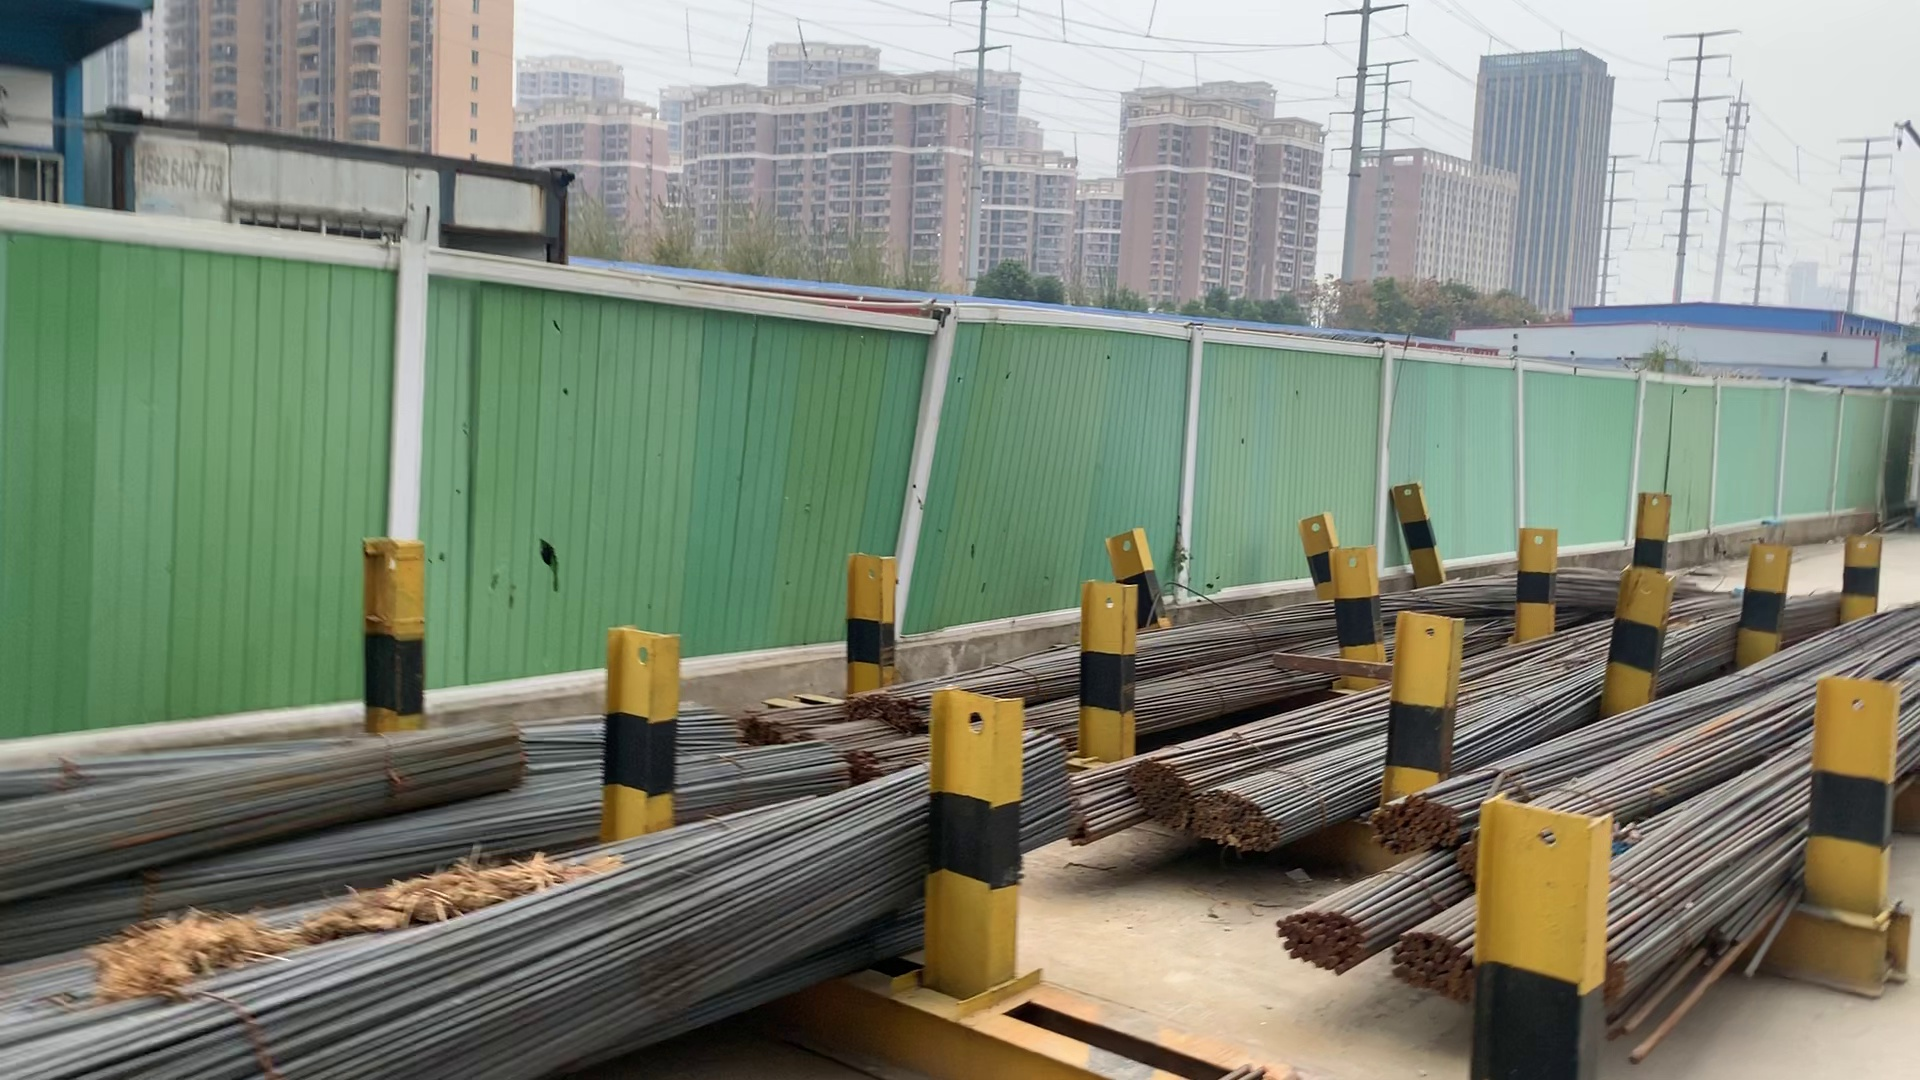rebar: (1270, 903, 1367, 973), (1389, 934, 1477, 1004), (1364, 791, 1458, 849), (1192, 793, 1276, 857), (1124, 756, 1193, 833), (845, 688, 924, 735), (843, 749, 880, 781)
